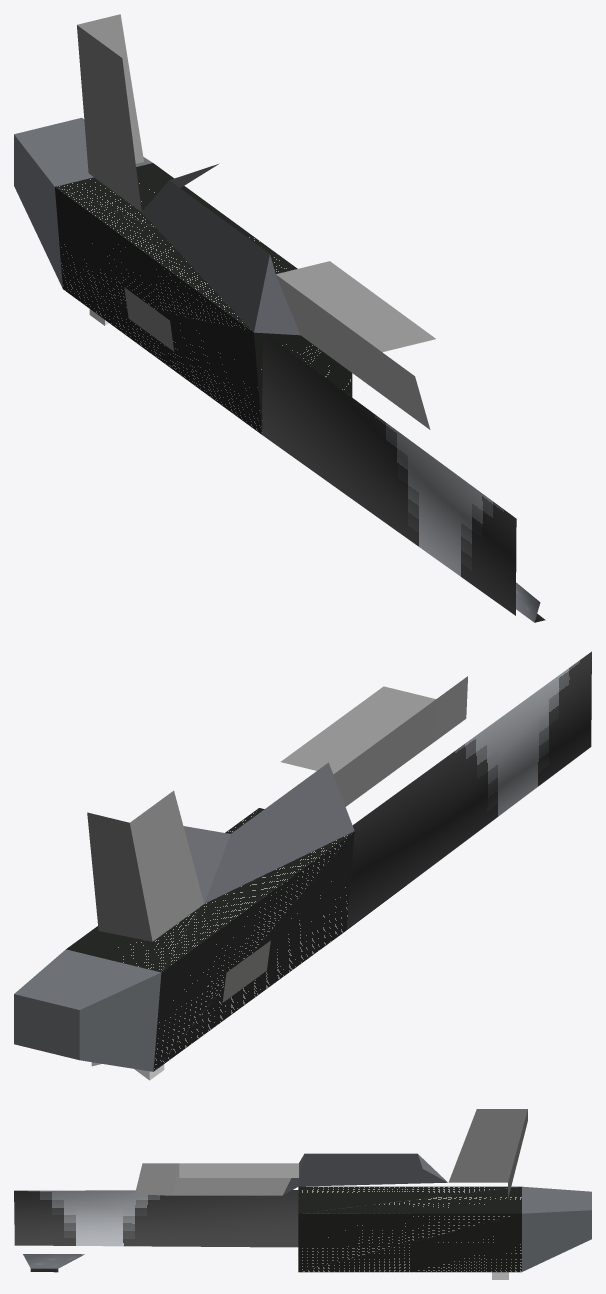
File: SHOTGUN.obj
3 renders of one model, top to bottom at view 1: azimuth 30°, elevation 25°; view 2: azimuth 150°, elevation 25°; view 3: azimuth 270°, elevation 25°, orthographic. The views are drawn at different scales.
Parts seen in each view (by area): view 1: SHOTGUN_pistol_q2_SS_v1_0000_submodel00_mesh0000.003; view 2: SHOTGUN_pistol_q2_SS_v1_0000_submodel00_mesh0000.003; view 3: SHOTGUN_pistol_q2_SS_v1_0000_submodel00_mesh0000.003.
Boxes of the visible parts, bbox=[...] form: SHOTGUN_pistol_q2_SS_v1_0000_submodel00_mesh0000.003: bbox=[14, 14, 545, 622]; SHOTGUN_pistol_q2_SS_v1_0000_submodel00_mesh0000.003: bbox=[14, 651, 591, 1080]; SHOTGUN_pistol_q2_SS_v1_0000_submodel00_mesh0000.003: bbox=[14, 1109, 591, 1279].
Bounding box in the file's own units: 0.713 × 1.92 × 6.46.
